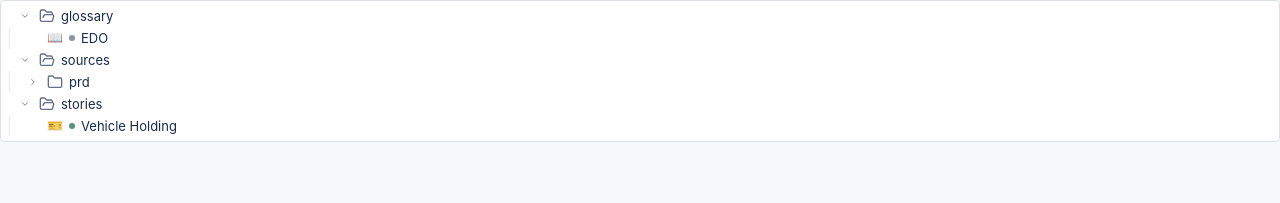
Scenario: DirectoryTree › reveals a nested file after expanding its ancestor folder
This screenshot has width=1280, height=203.
Expected: the text "PRD §1" is not shown
What coordinates should you click on to do the following:
click the text "prd"
I would click on:
 (79, 82)
Its box is 69,74 -> 90,90.
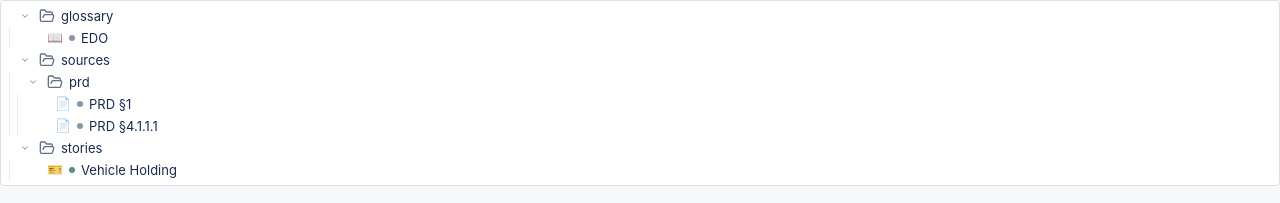
Now the text "PRD §1" is shown, box 89,96 -> 131,112
Now the text "PRD §4.1.1.1" is shown, box 89,118 -> 158,134
